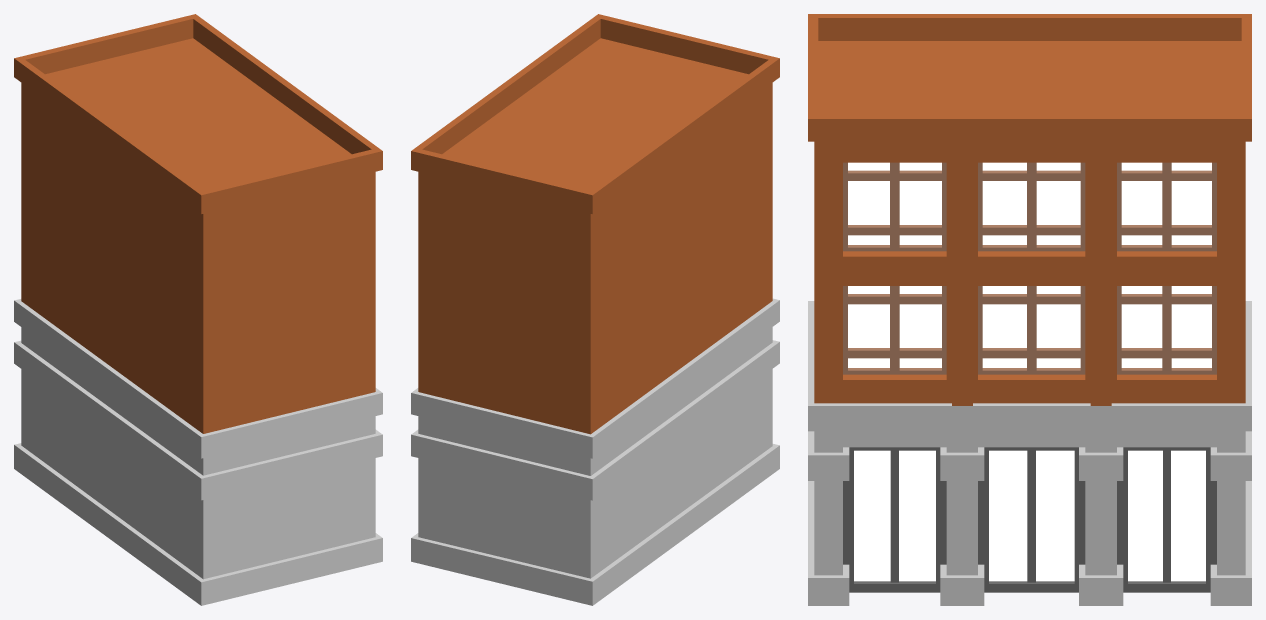
Rendered from House 1.1.fbx.
3 renders of one model, left to right at view 1: azimuth 30°, elevation 25°; view 2: azimuth 150°, elevation 25°; view 3: azimuth 270°, elevation 25°, orthographic. The views are drawn at different scales.
Visible parts, largest first — view 1: House 1.002; view 2: House 1.002; view 3: House 1.002.
Part boxes in pixels (x1=…): House 1.002: x1=14, y1=14, x2=382, y2=605; House 1.002: x1=411, y1=14, x2=779, y2=605; House 1.002: x1=808, y1=14, x2=1251, y2=605.
Bounding box in the file's own units: 785 × 1696 × 1401.
